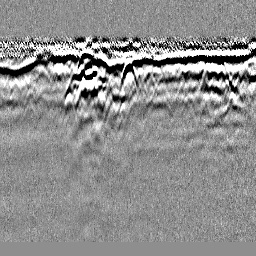cavity: (119, 57, 138, 88)
